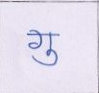u_matra: (31, 50, 60, 66)
